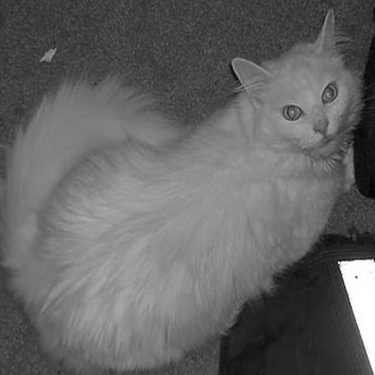cat: (6, 12, 363, 347)
